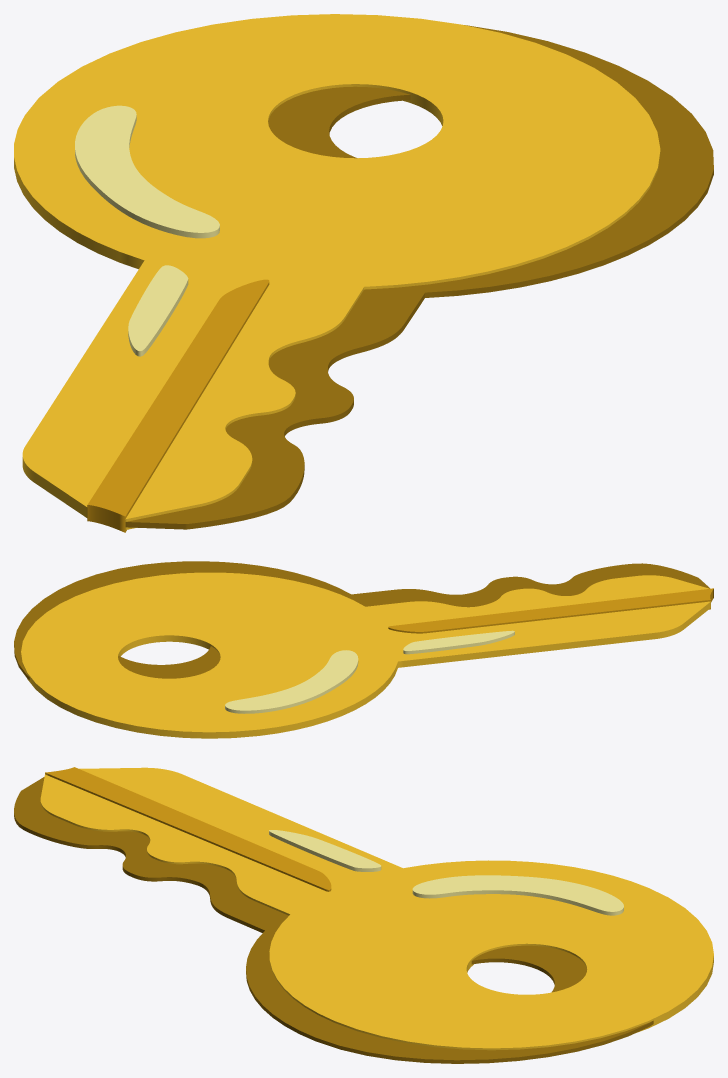
The model's file is emoji_u1f511.glb.
3 views of the same model, one above another, from view 1: azimuth 30°, elevation 25°; view 2: azimuth 150°, elevation 25°; view 3: azimuth 270°, elevation 25° (orthographic). The views are drawn at different scales.
Visible parts, largest first — view 1: emoji_u1f511; view 2: emoji_u1f511; view 3: emoji_u1f511.
Boxes of the visible parts, x1,y1,x2,y2 form: emoji_u1f511: [14, 14, 713, 532]; emoji_u1f511: [14, 561, 713, 738]; emoji_u1f511: [14, 767, 713, 1063].
Size of the model in its own units: 0.0332 by 0.0008 by 0.0338.
